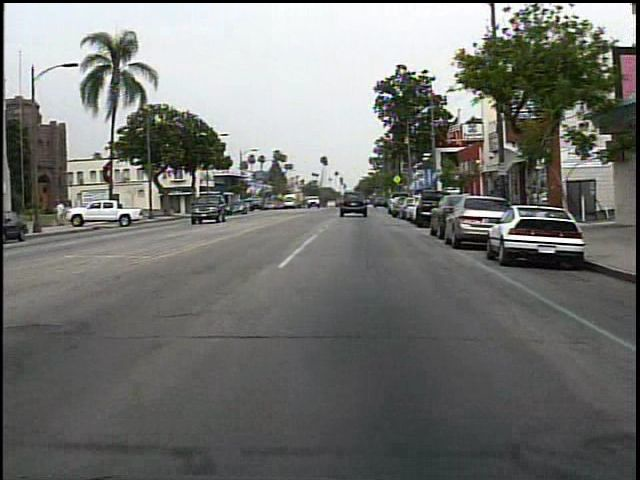person: (351, 188, 373, 220), (55, 198, 71, 229)
